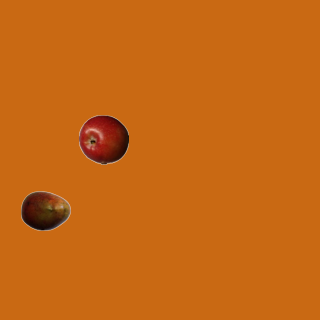Apple Braeburn: (78, 114, 128, 164)
Mango Red: (20, 185, 70, 235)
